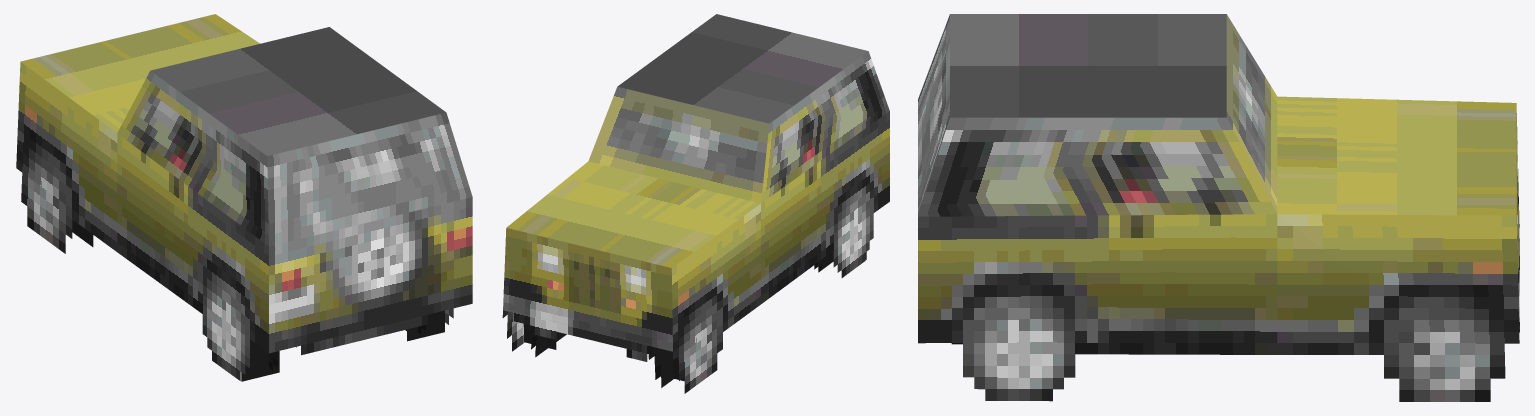
The model's file is car-jeep-plt1.glb.
The picture shows the model from 3 angles, left to right: view 1: azimuth 30°, elevation 25°; view 2: azimuth 150°, elevation 25°; view 3: azimuth 270°, elevation 25°; orthographic projection. The views are drawn at different scales.
Visible parts, largest first — view 1: car-jeep-plt1; view 2: car-jeep-plt1; view 3: car-jeep-plt1.
Part boxes in pixels (box(x1,y1,x2,y2)): car-jeep-plt1: box(16, 14, 472, 381); car-jeep-plt1: box(502, 14, 889, 393); car-jeep-plt1: box(918, 14, 1519, 401).
Bounding box in the file's own units: 1.5 × 1.65 × 3.25.
Materials: 13 (13 with a texture image).
